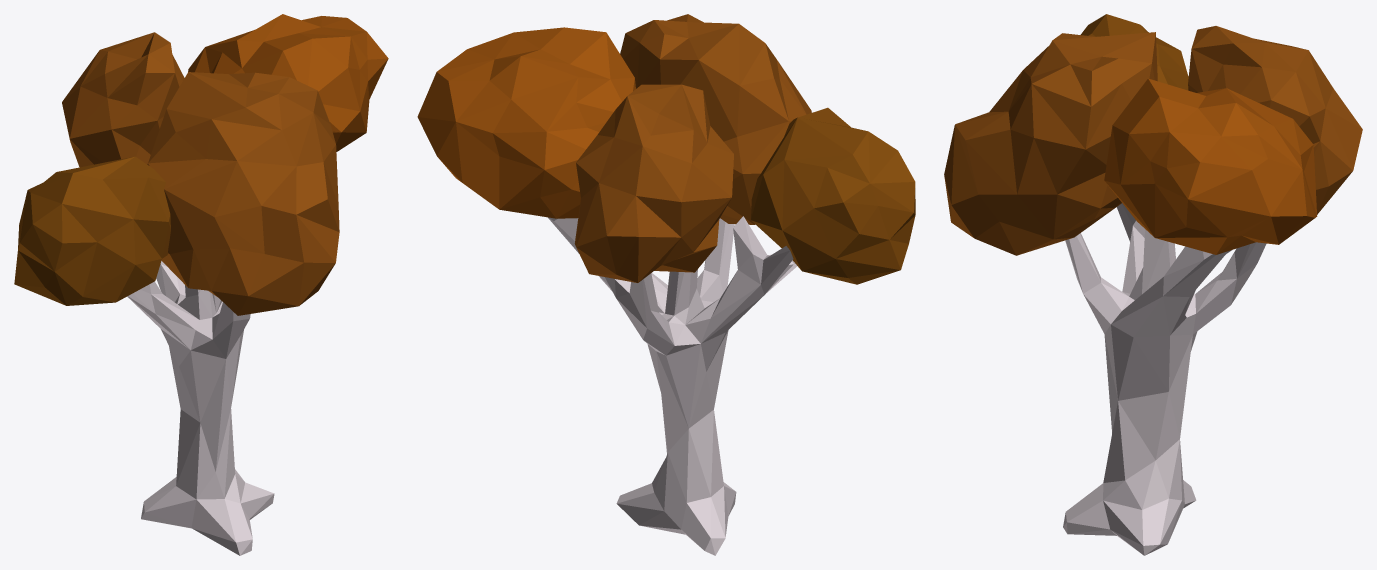
Rendered from tree_1.fbx.
3 views of the same model, side by side, from view 1: azimuth 30°, elevation 25°; view 2: azimuth 150°, elevation 25°; view 3: azimuth 270°, elevation 25° (orthographic). The views are drawn at different scales.
Visible parts, largest first — view 1: tree_big.000; view 2: tree_big.000; view 3: tree_big.000.
Boxes of the visible parts, x1,y1,x2,y2 form: tree_big.000: (14,14,388,555); tree_big.000: (417,14,915,555); tree_big.000: (944,14,1362,555).
Bounding box in the file's own units: 257 × 278 × 215.
